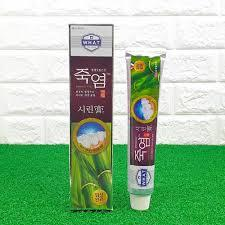toothpaste: (118, 43, 166, 212)
